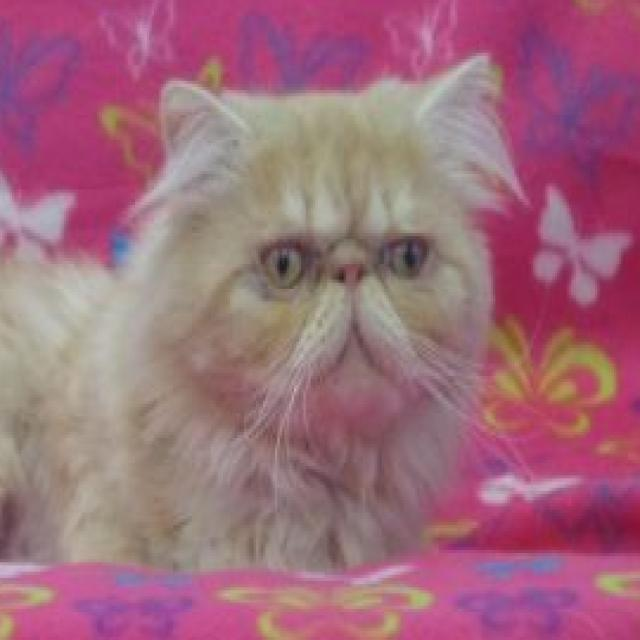Persian: (0, 47, 510, 581)
